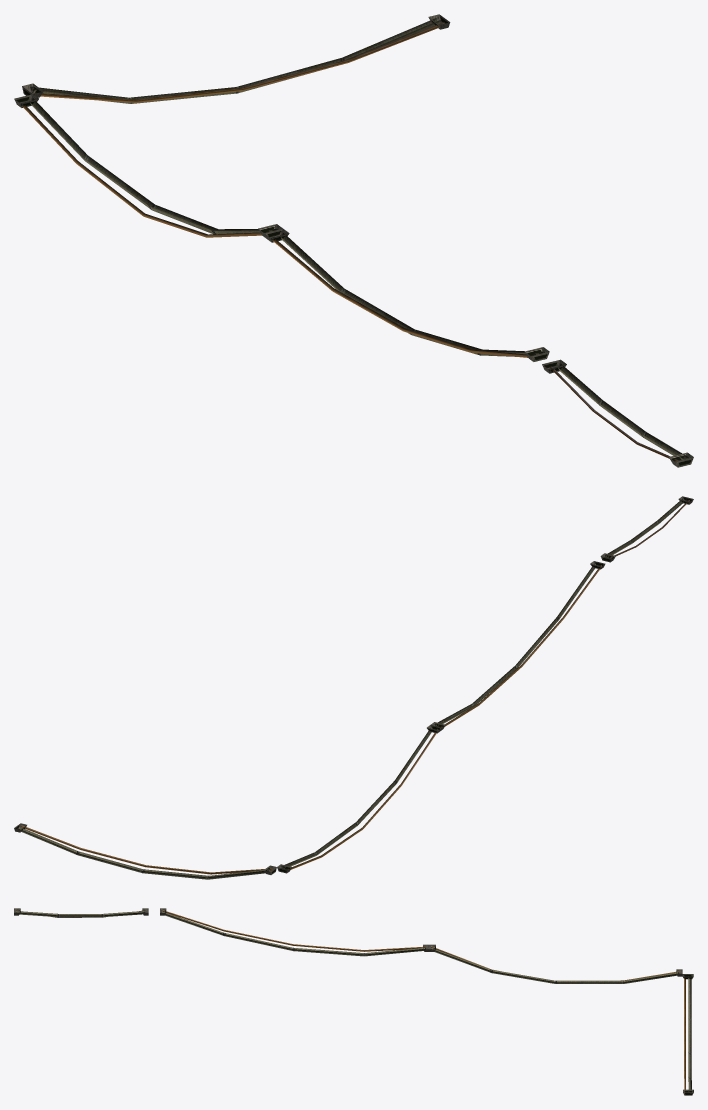
Rendered from M12_TopPipes_B.glb.
The picture shows the model from 3 angles, top to bottom: view 1: azimuth 30°, elevation 25°; view 2: azimuth 150°, elevation 25°; view 3: azimuth 270°, elevation 25°; orthographic projection. The views are drawn at different scales.
Parts seen in each view (by area): view 1: M12_TOPPIPES_B; view 2: M12_TOPPIPES_B; view 3: M12_TOPPIPES_B.
Boxes of the visible parts, left/top/right/bottom form: M12_TOPPIPES_B: left=14, top=14, right=693, bottom=467; M12_TOPPIPES_B: left=14, top=496, right=693, bottom=879; M12_TOPPIPES_B: left=14, top=908, right=693, bottom=1095.
Bounding box in the file's own units: 7.56 × 2.94 × 20.17.
Materials: 1 (1 with a texture image).
